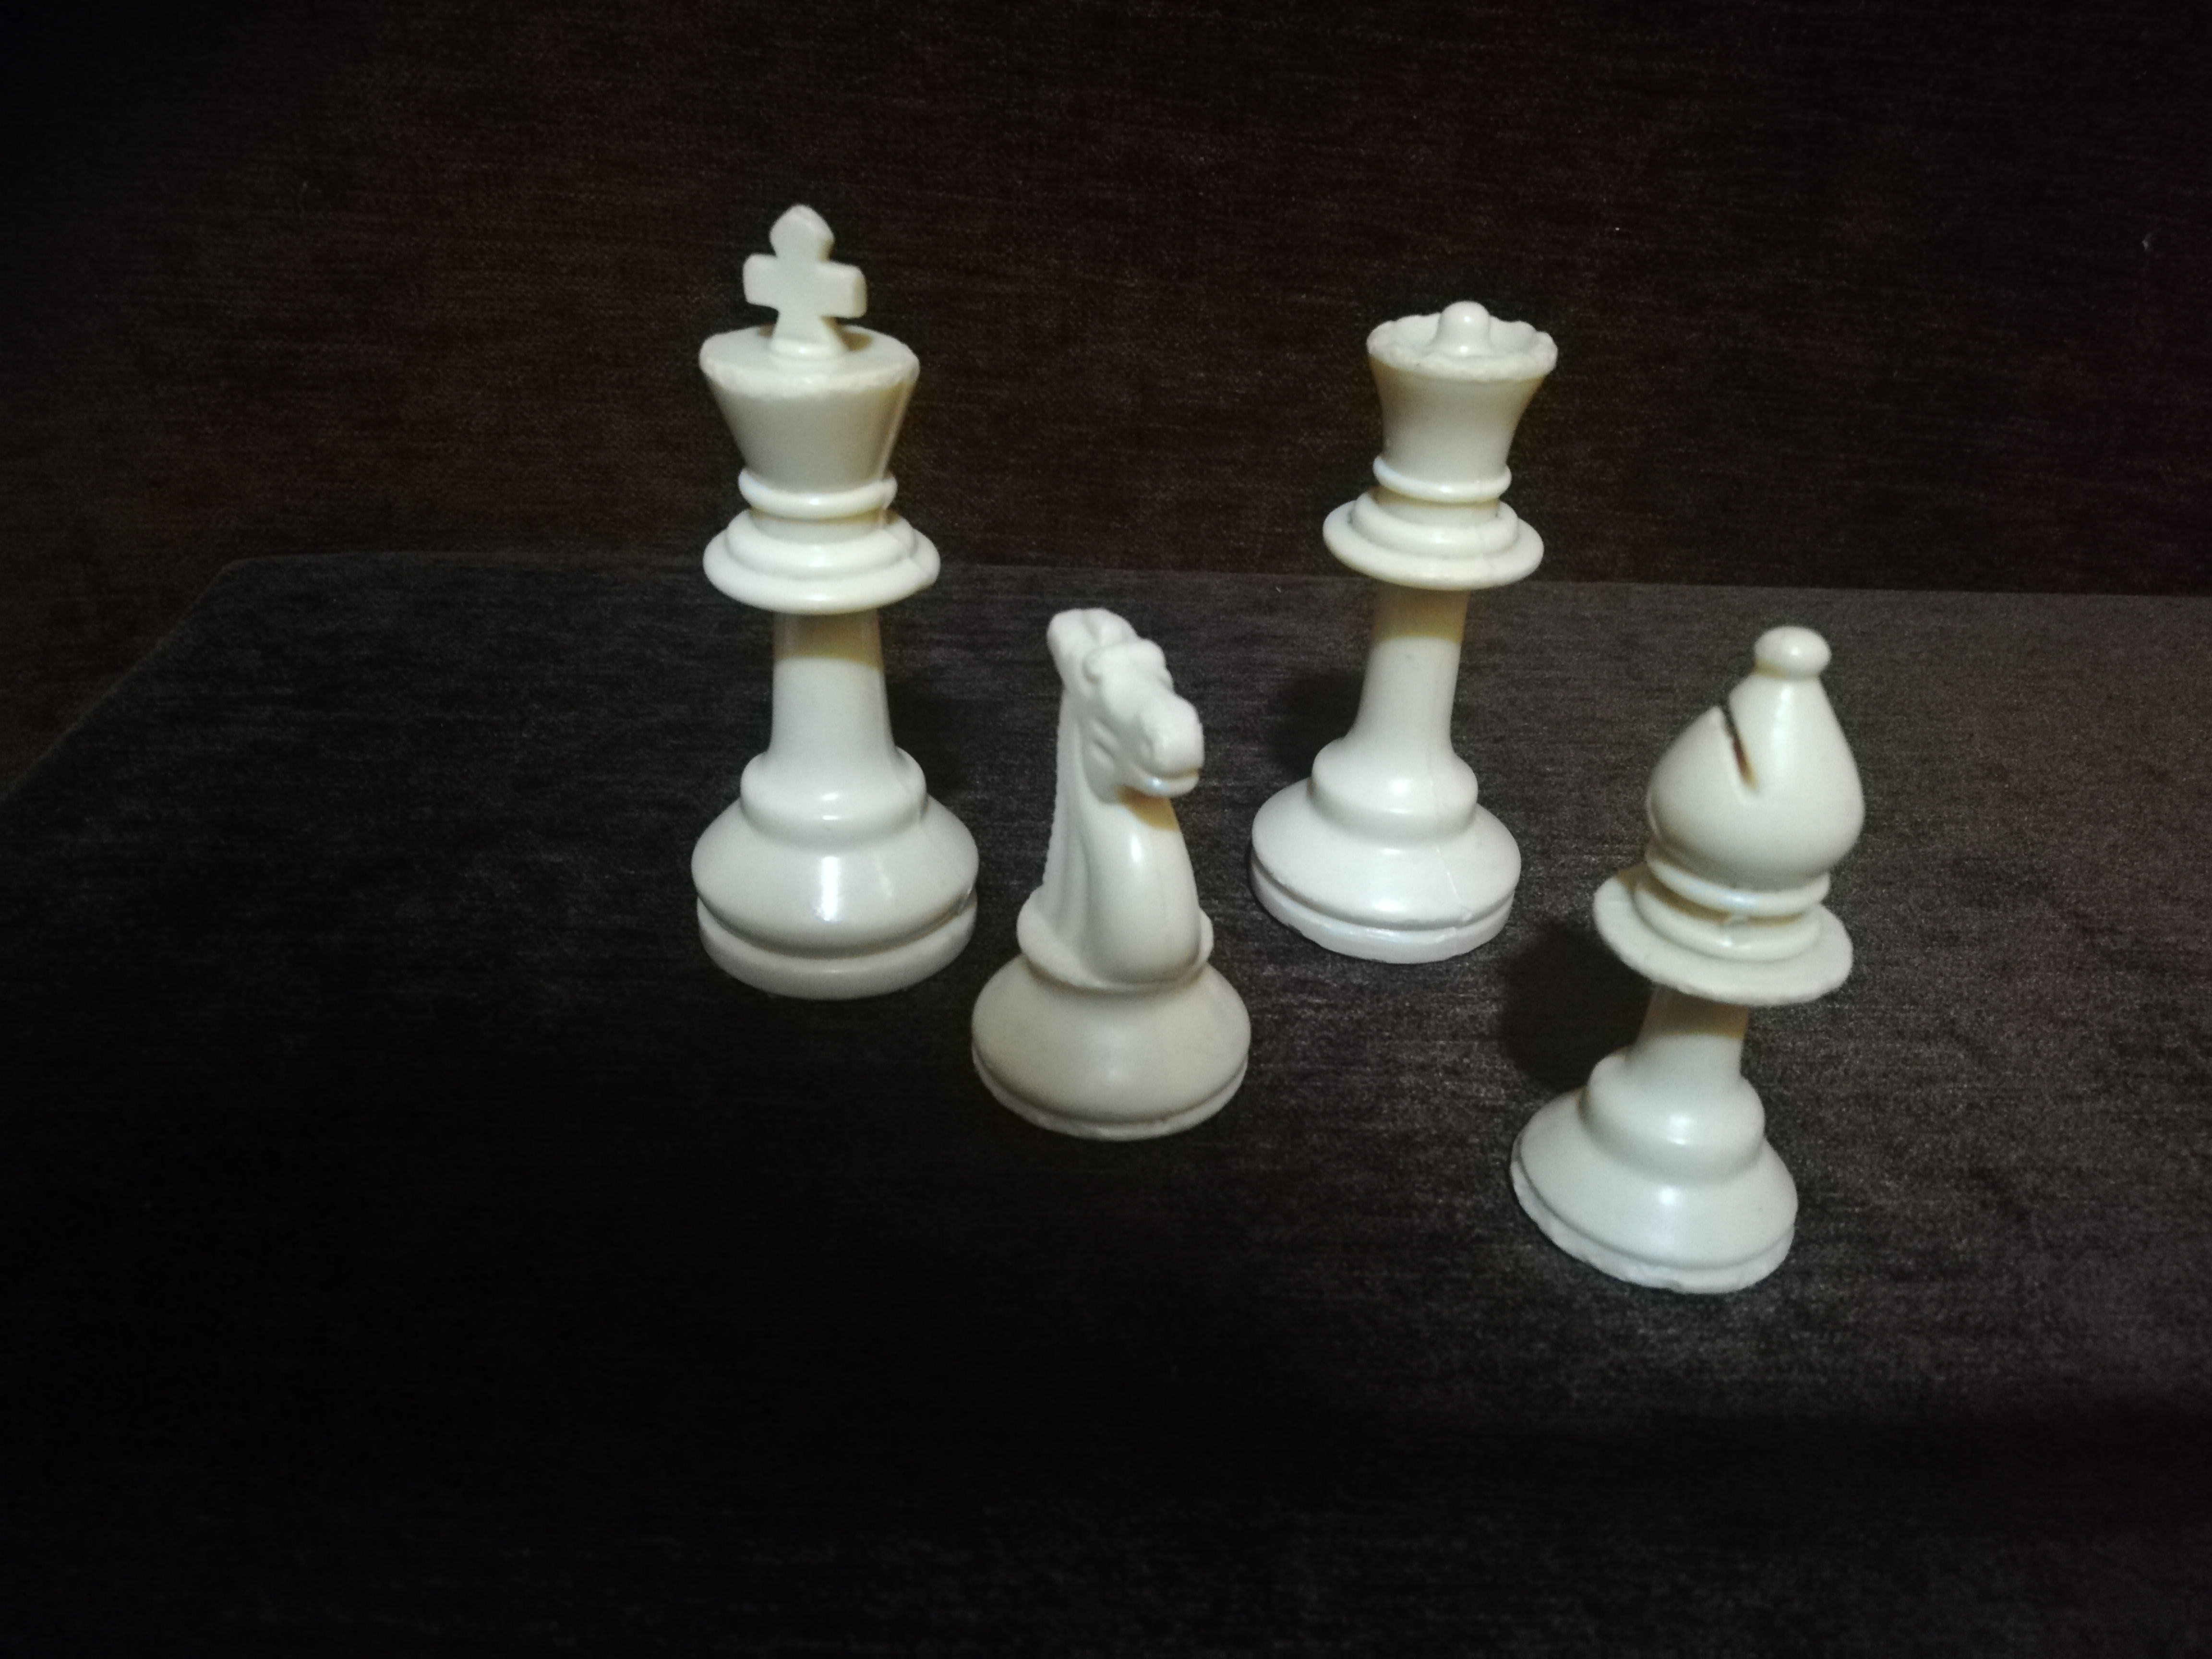Bishop: (1514, 593, 1876, 1295)
King: (639, 194, 989, 993)
Knight: (977, 600, 1256, 1142)
Queen: (1250, 242, 1535, 968)
